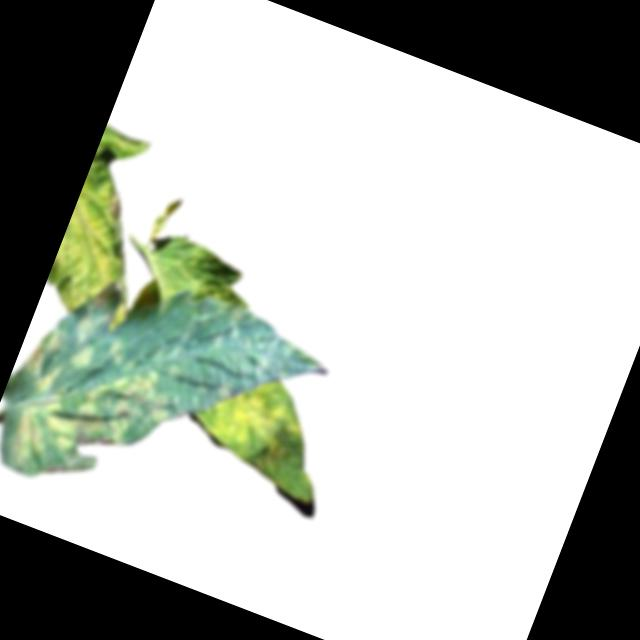Leaf_Mold: (1, 314, 196, 515), (36, 177, 161, 339), (197, 367, 311, 471)
